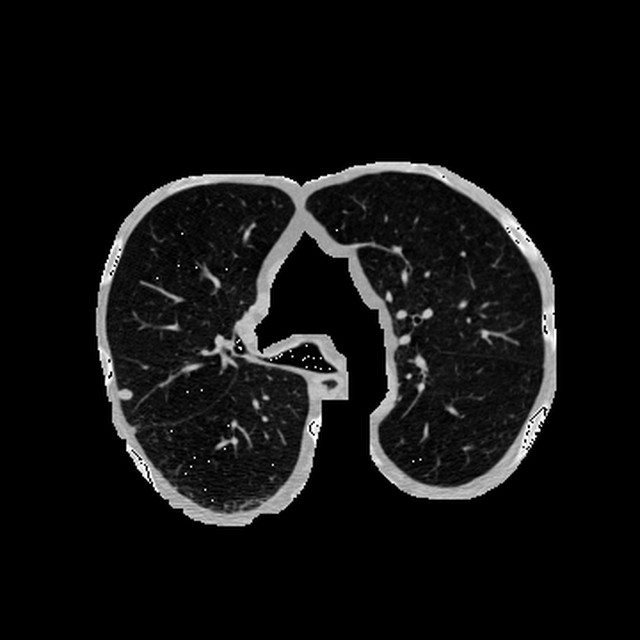PN: (117, 388, 132, 402)
